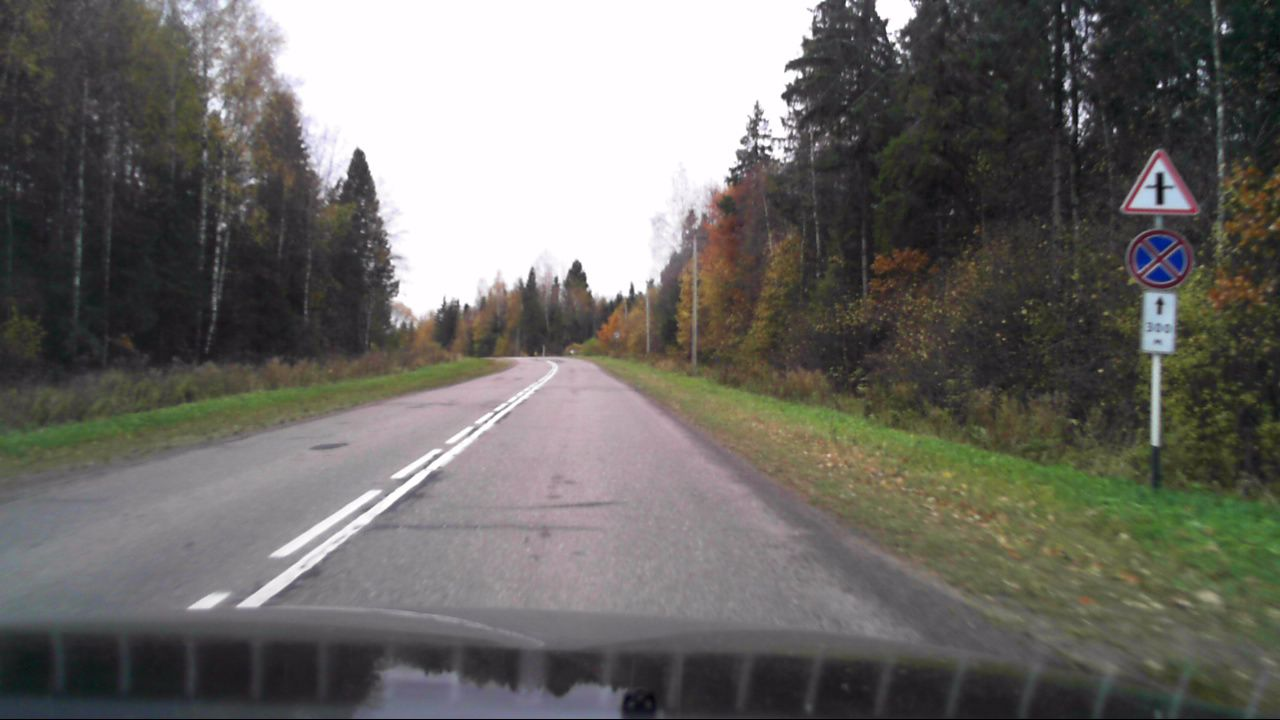No Parking: (1125, 229, 1194, 288)
